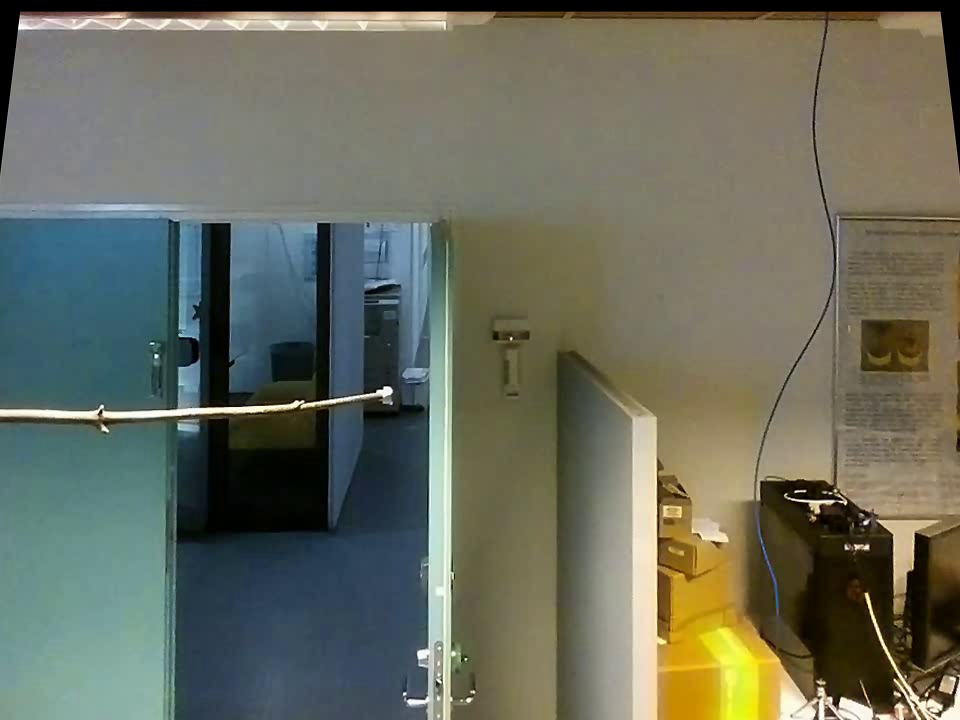branch: (0, 381, 375, 441)
